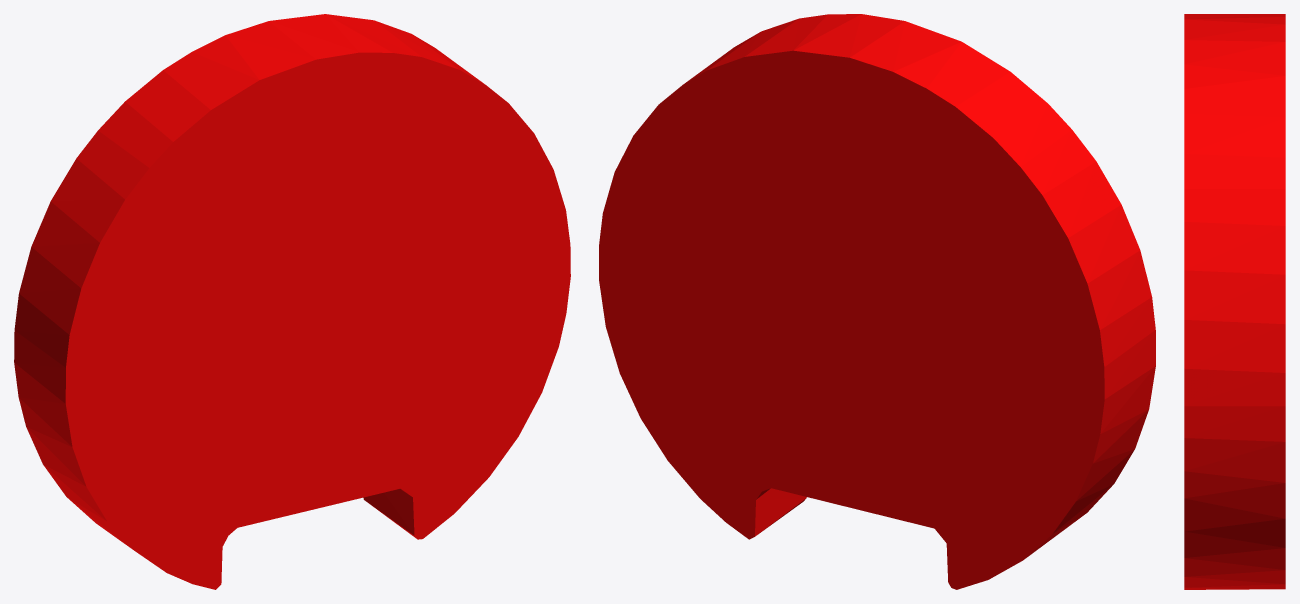
The model's file is left_arm_2_x8_1_pcb_1.glb.
3 renders of one model, left to right at view 1: azimuth 30°, elevation 25°; view 2: azimuth 150°, elevation 25°; view 3: azimuth 270°, elevation 25°, orthographic.
Parts seen in each view (by area): view 1: left_arm_2_x8_1_pcb_1.obj; view 2: left_arm_2_x8_1_pcb_1.obj; view 3: left_arm_2_x8_1_pcb_1.obj.
Boxes of the visible parts, x1,y1,x2,y2 form: left_arm_2_x8_1_pcb_1.obj: (14,14,570,589); left_arm_2_x8_1_pcb_1.obj: (599,14,1155,589); left_arm_2_x8_1_pcb_1.obj: (1184,14,1285,589).
Bounding box in the file's own units: 0.071 × 0.0679 × 0.0125.
